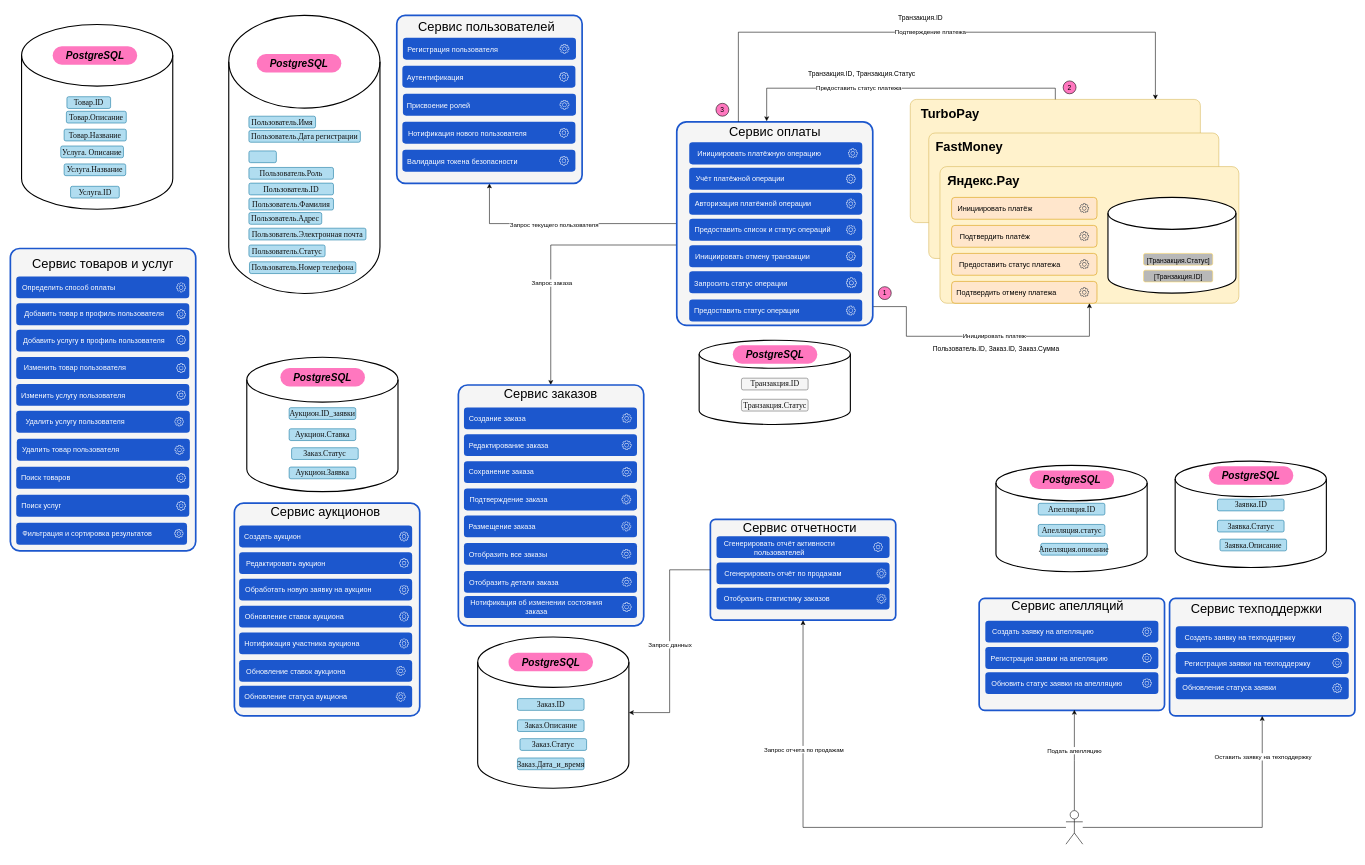
The diagram is 1365 pixels wide and 865 high, and some of its shapes have lost their labels. The centre of each missing label's shape, as x and y in pixels:
"JWT" goes at [262,156].
"Пользователь" goes at [1074,827].
